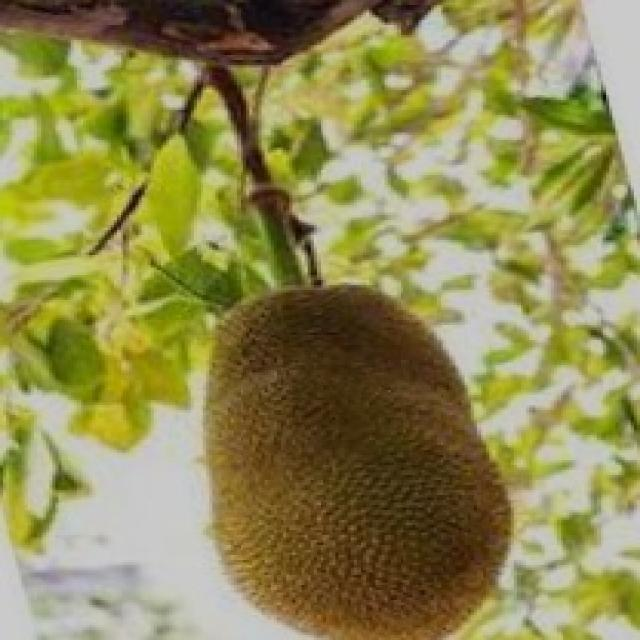Fruit: (166, 260, 542, 640)
